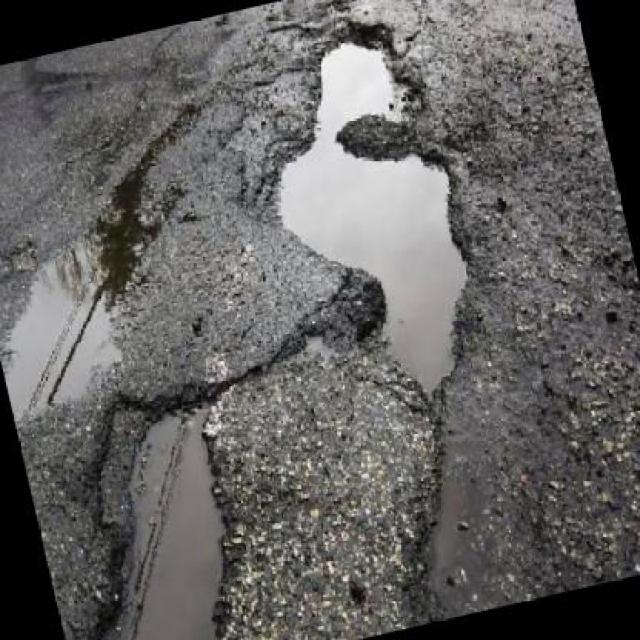pothole1: (228, 0, 508, 431), (12, 363, 292, 639)
